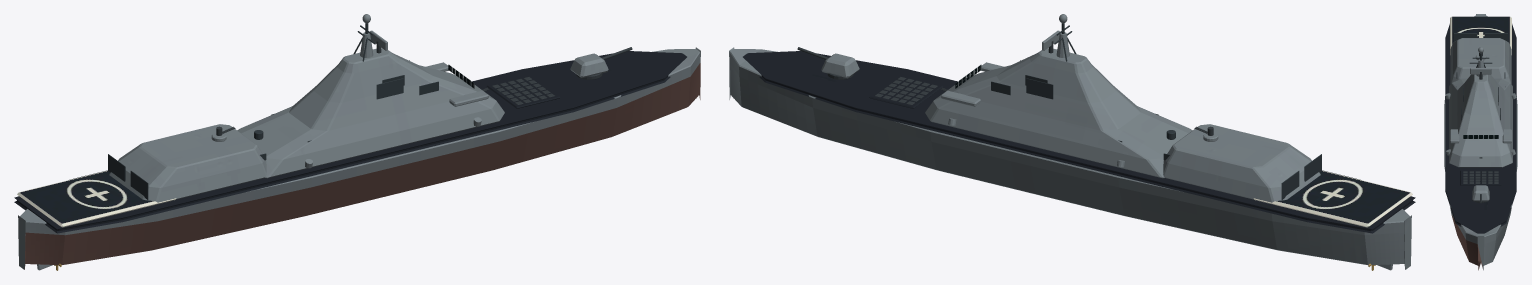
Rendered from cruiser-modern.glb.
3 views of the same model, side by side, from view 1: azimuth 30°, elevation 25°; view 2: azimuth 150°, elevation 25°; view 3: azimuth 270°, elevation 25° (orthographic). The views are drawn at different scales.
Parts seen in each view (by area): view 1: Type055_Hull, Type055_V3_Integrated_Island_Shell, Type055_Main_Deck, Type055_V3_Aft_Integrated_Hangar, Type055_V3_Helicopter_Deck, Type055_VLS_Fore, Type055_Main_Gun_House, Type055_V2_AESА_Array_-1; view 2: Type055_Hull, Type055_V3_Integrated_Island_Shell, Type055_Main_Deck, Type055_V3_Aft_Integrated_Hangar, Type055_V3_Helicopter_Deck, Type055_VLS_Fore, Type055_Main_Gun_House, Type055_V2_AESА_Array_+1; view 3: Type055_V3_Integrated_Island_Shell, Type055_Main_Deck, Type055_V3_Aft_Integrated_Hangar, Type055_Hull, Type055_V3_Helicopter_Deck, Type055_VLS_Fore, Type055_Main_Gun_House, Type055_Rotating_Radar, Type055_V2_Hangar_Door_+1, Type055_V2_Hangar_Door_-1, Type055_V2_Bridge_Wing_+1, Type055_V2_Bridge_Wing_-1 (+1 smaller).
Part boxes in pixels (x1,y1,x2,y2): Type055_Hull: (18,47,700,269); Type055_V3_Integrated_Island_Shell: (237,48,504,178); Type055_Main_Deck: (14,51,686,233); Type055_V3_Aft_Integrated_Hangar: (109,124,266,204); Type055_V3_Helicopter_Deck: (17,170,176,227); Type055_VLS_Fore: (486,75,560,108); Type055_Main_Gun_House: (570,53,608,78); Type055_V2_AESА_Array_-1: (376,78,403,99); Type055_Hull: (729,47,1411,269); Type055_V3_Integrated_Island_Shell: (925,48,1192,178); Type055_Main_Deck: (743,51,1415,233); Type055_V3_Aft_Integrated_Hangar: (1163,124,1320,204); Type055_V3_Helicopter_Deck: (1253,170,1412,227); Type055_VLS_Fore: (869,75,943,108); Type055_Main_Gun_House: (821,53,859,78); Type055_V2_AESА_Array_+1: (1026,78,1053,99); Type055_V3_Integrated_Island_Shell: (1449,74,1512,167); Type055_Main_Deck: (1445,24,1516,233); Type055_V3_Aft_Integrated_Hangar: (1450,38,1511,84); Type055_Hull: (1444,14,1517,270); Type055_V3_Helicopter_Deck: (1450,16,1511,54); Type055_VLS_Fore: (1460,170,1501,185); Type055_Main_Gun_House: (1472,185,1489,201); Type055_Rotating_Radar: (1470,68,1491,74); Type055_V2_Hangar_Door_+1: (1484,33,1508,41); Type055_V2_Hangar_Door_-1: (1453,33,1477,41); Type055_V2_Bridge_Wing_+1: (1502,129,1511,143); Type055_V2_Bridge_Wing_-1: (1450,129,1459,143).
Bounding box in the file's own units: 36 × 8.94 × 4.94.
Materials: 9 (4 with a texture image).
